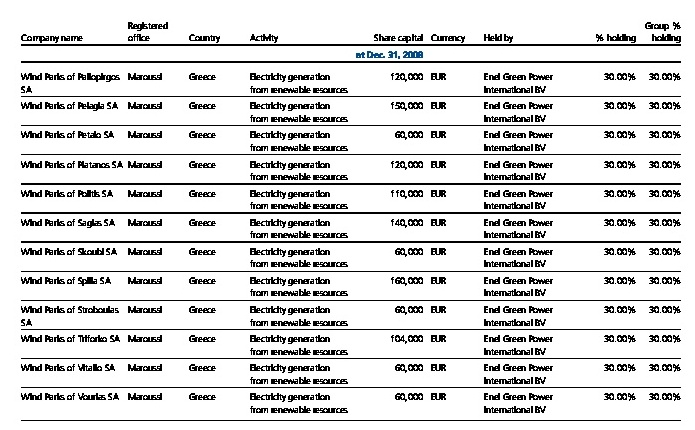table: (0, 0, 695, 430)
